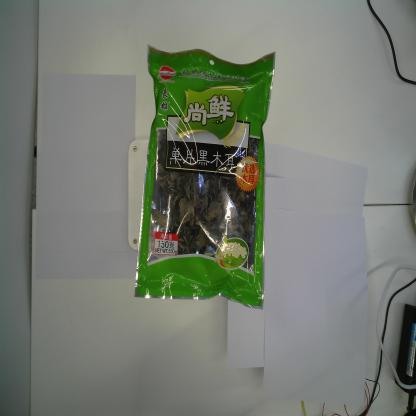Dried Food: (135, 44, 275, 309)
